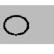no answer: (1, 12, 31, 36)
